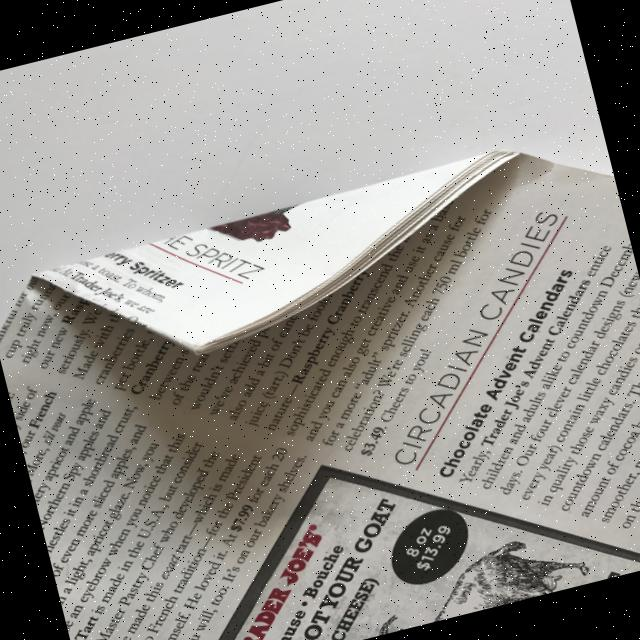paper: (0, 123, 640, 640), (28, 144, 550, 390)
